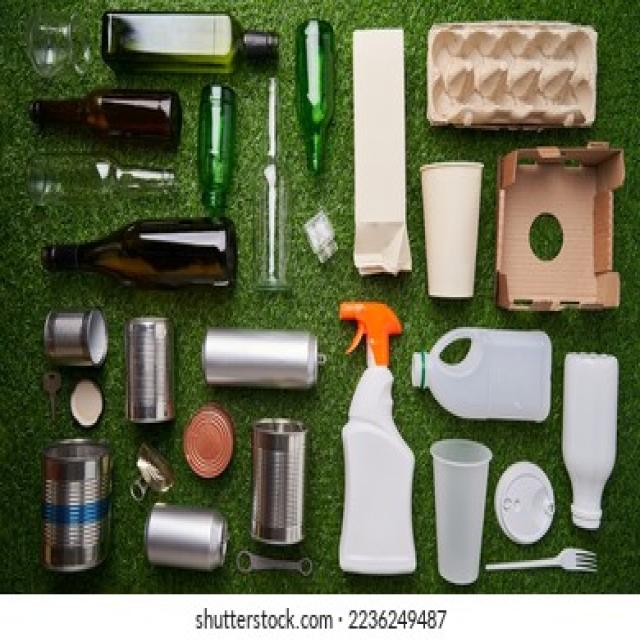cardboard: (499, 146, 607, 322), (425, 25, 591, 135), (417, 167, 482, 297)
glass: (52, 226, 220, 286), (36, 96, 177, 155), (250, 94, 292, 283), (294, 27, 331, 142), (202, 89, 236, 197)
metal: (34, 439, 116, 564), (202, 324, 317, 391), (249, 425, 307, 551), (121, 318, 172, 418), (38, 316, 95, 364)
paper: (349, 34, 412, 274)
plastic: (349, 371, 417, 578), (428, 338, 553, 428), (563, 354, 615, 505), (433, 441, 488, 583)
